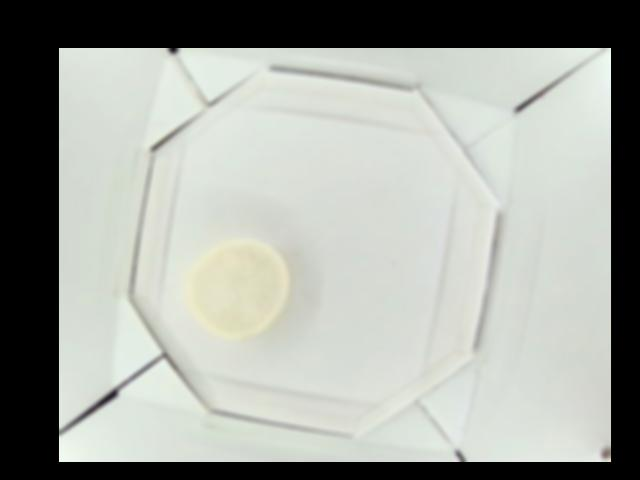Mooli: (190, 239, 290, 341)
